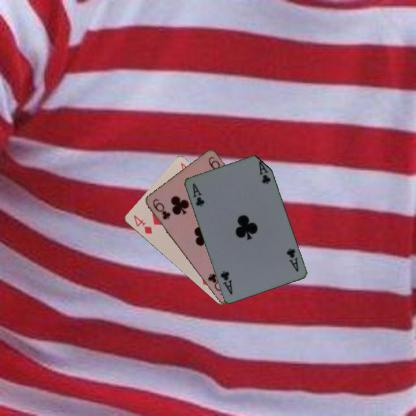4d: (131, 212, 153, 235)
6c: (150, 196, 172, 221)
Ac: (284, 245, 300, 272), (190, 181, 206, 207)
